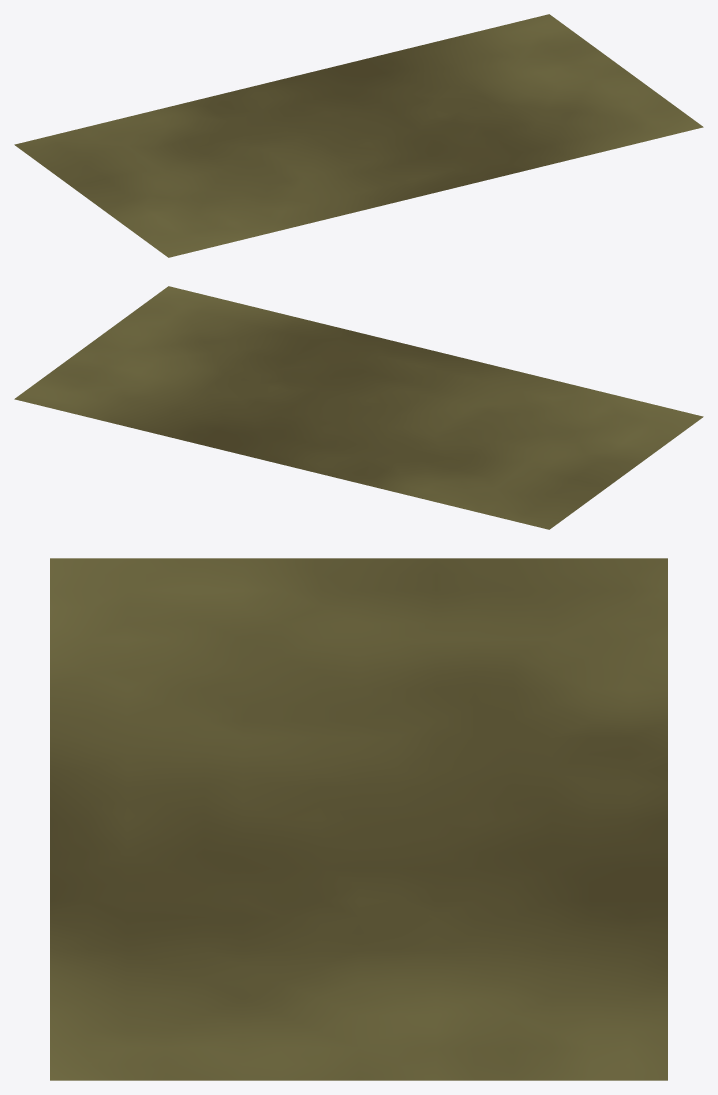
File: terrain_lod0_-5_-8.obj
3 renders of one model, top to bottom at view 1: azimuth 30°, elevation 25°; view 2: azimuth 150°, elevation 25°; view 3: azimuth 270°, elevation 25°, orthographic. The views are drawn at different scales.
Visible parts, largest first — view 1: terrain_lod0_-5_-8; view 2: terrain_lod0_-5_-8; view 3: terrain_lod0_-5_-8.
Boxes of the visible parts, bbox=[...] form: terrain_lod0_-5_-8: bbox=[14, 14, 703, 257]; terrain_lod0_-5_-8: bbox=[14, 286, 703, 529]; terrain_lod0_-5_-8: bbox=[50, 558, 667, 1080].
Bounding box in the file's own units: 128 × 0 × 64.
